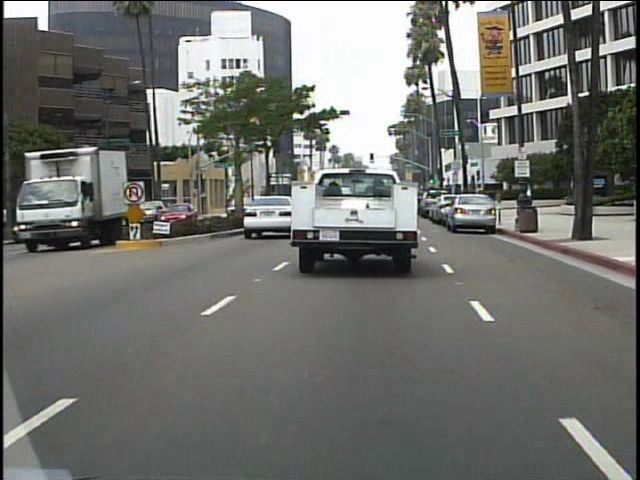person: (581, 178, 600, 223)
